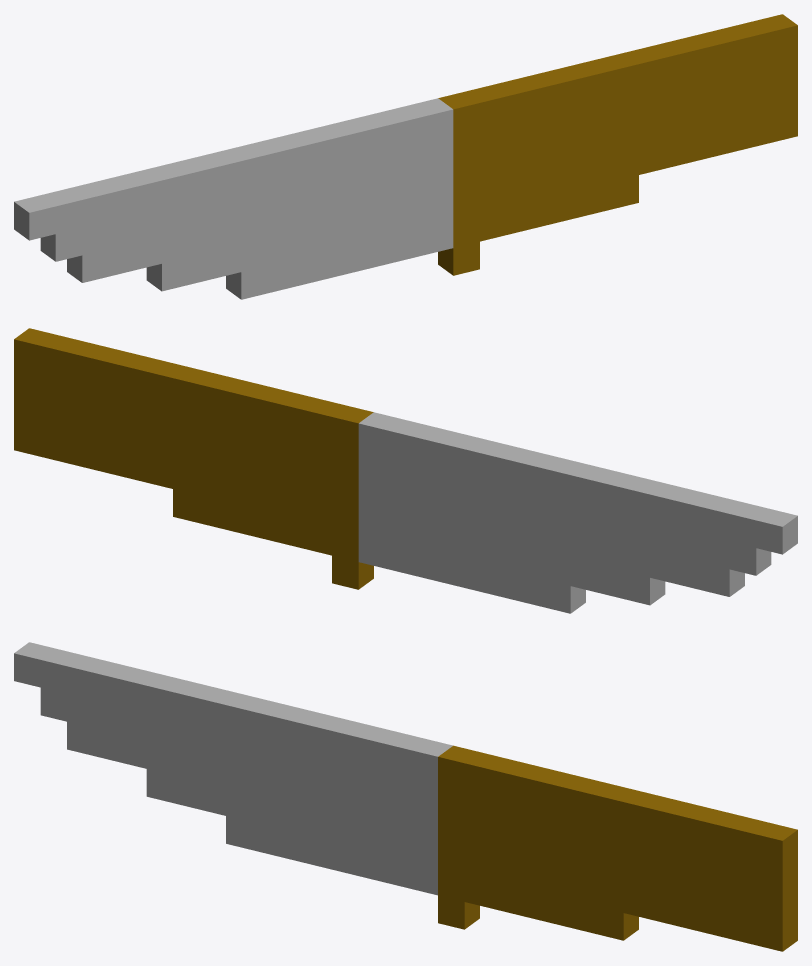
3 views of the same model, one above another, from view 1: azimuth 30°, elevation 25°; view 2: azimuth 150°, elevation 25°; view 3: azimuth 330°, elevation 25° (orthographic).
Bounding box in the file's own units: 1.45 × 0.3 × 0.05.
